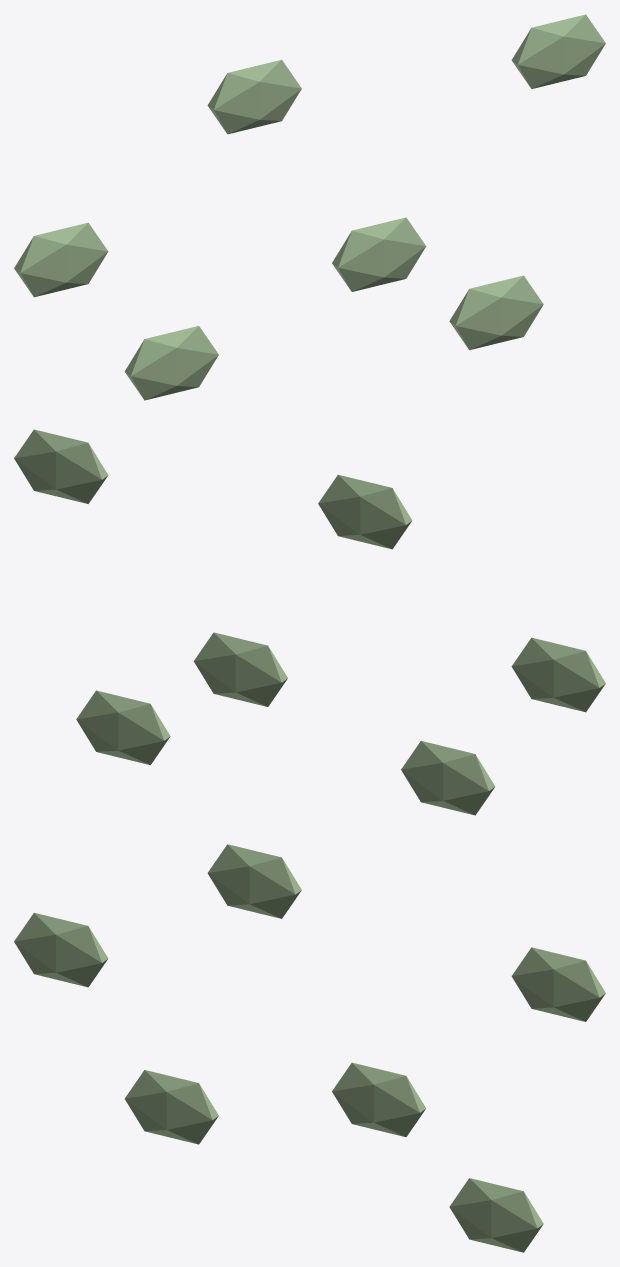
File: duckweed.glb
3 views of the same model, one above another, from view 1: azimuth 30°, elevation 25°; view 2: azimuth 150°, elevation 25°; view 3: azimuth 330°, elevation 25° (orthographic).
Parts seen in each view (by area): view 1: world; view 2: world; view 3: world.
Boxes of the visible parts, x1,y1,x2,y2 form: world: [14, 14, 605, 400]; world: [14, 429, 605, 815]; world: [14, 844, 605, 1252].
Size of the model in its own units: 0.8476 by 0.4651 by 0.0255.
